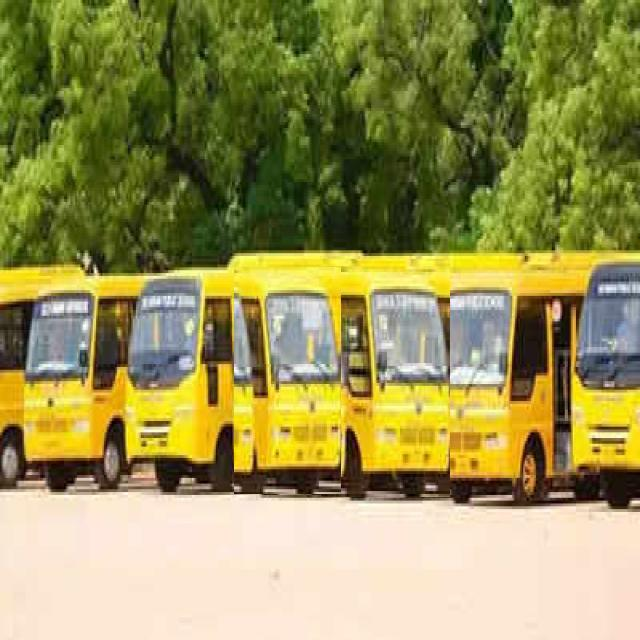bus: (424, 264, 585, 501), (321, 260, 450, 497), (130, 269, 252, 491), (234, 267, 341, 494)
